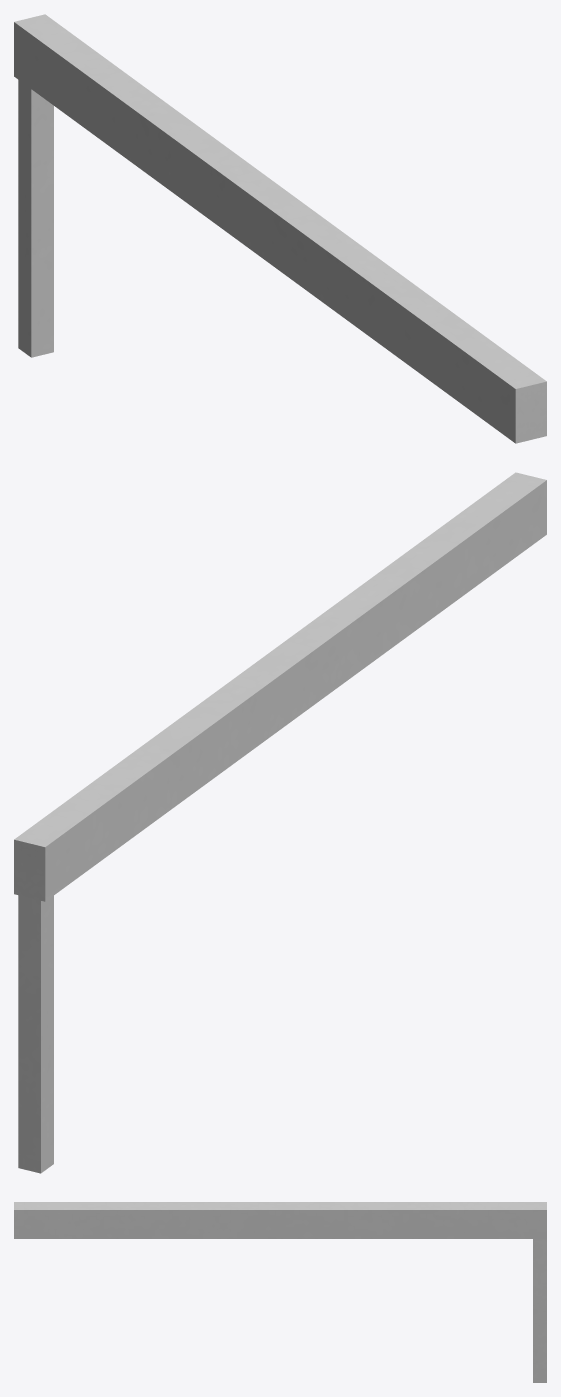
Rendered from fence-horse-rail-1s-cbj_LOD00.gltf.
3 views of the same model, one above another, from view 1: azimuth 30°, elevation 25°; view 2: azimuth 150°, elevation 25°; view 3: azimuth 270°, elevation 25° (orthographic). The views are drawn at different scales.
Parts seen in each view (by area): view 1: horserail; view 2: horserail; view 3: horserail.
Part boxes in pixels (x1,y1,x2,y2): horserail: (14,14,546,443); horserail: (14,472,546,1173); horserail: (14,1202,546,1382).
Size of the model in its own units: 0.18 by 1.8 by 5.
